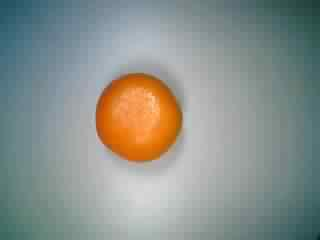orange: (90, 70, 185, 164)
